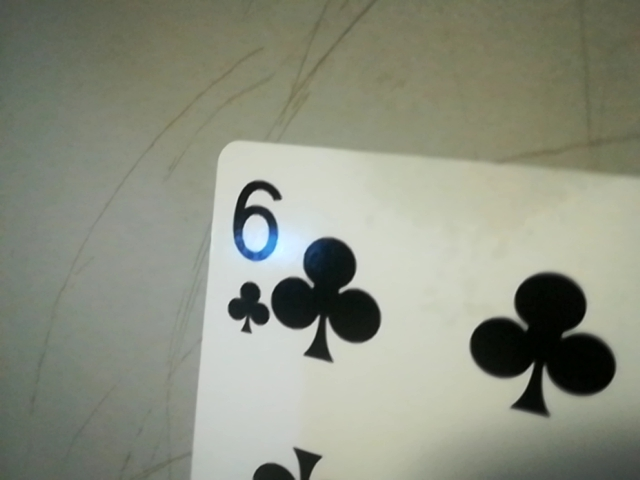mh 6: (218, 164, 283, 343)
